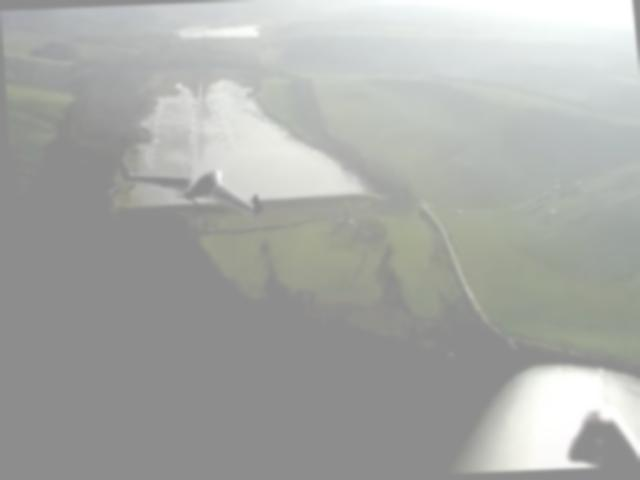iha: (108, 152, 257, 221)
